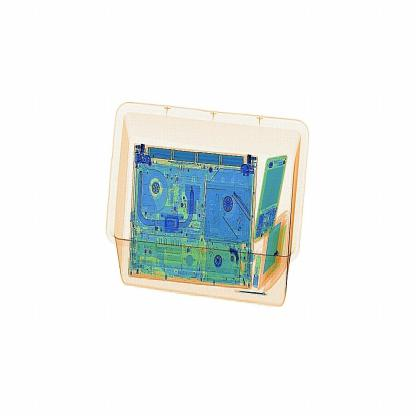wrench: (234, 284, 276, 299)
